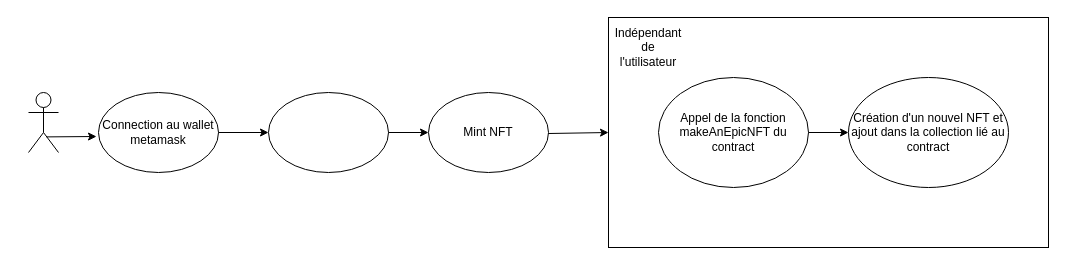
Image size: 1066x265. Some labels were removed from this diagram. The shapes that lost their labels are listed below. From the top down, each one's box as (x1, y1, x2, y2) in pixels, then its label:
(28, 92, 58, 152): Utilisateur
(268, 92, 388, 172): Accepter de connecter son wallet au site web (confiance)
